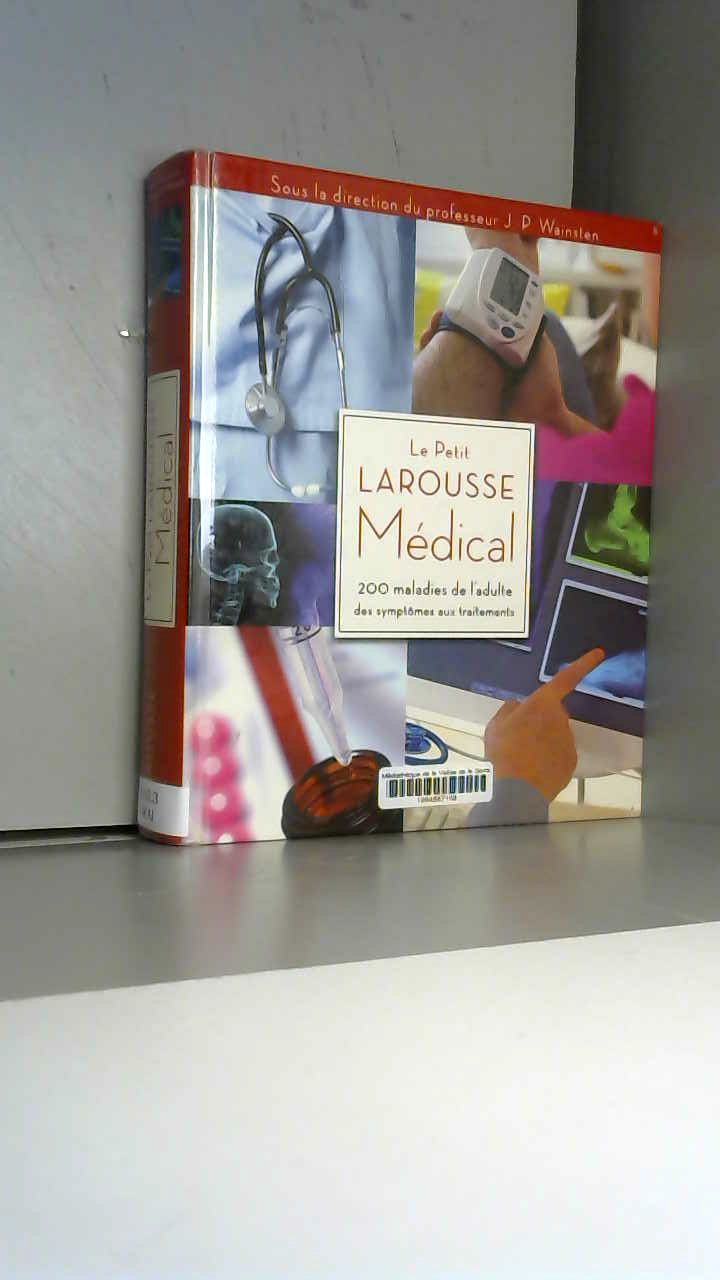book: (110, 120, 720, 936)
